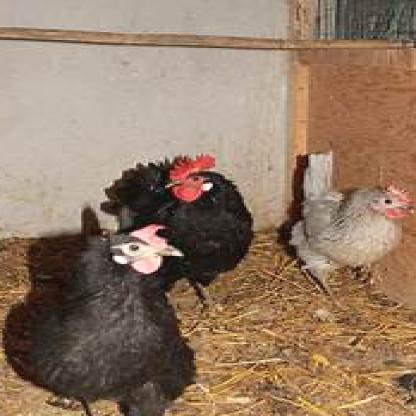chicken: (26, 221, 194, 414), (110, 150, 253, 312), (287, 150, 414, 301)
